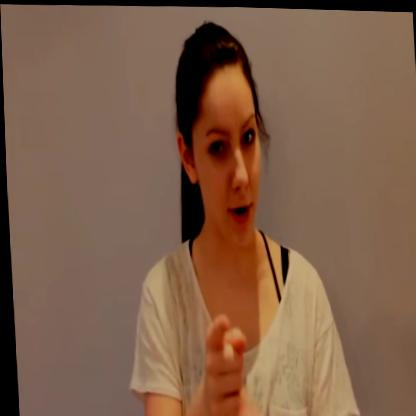HowAreYou: (190, 299, 267, 416)
